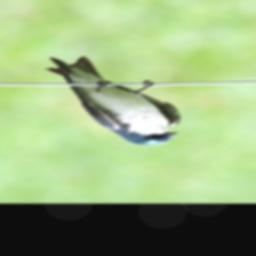Swallow: (43, 56, 182, 146)
